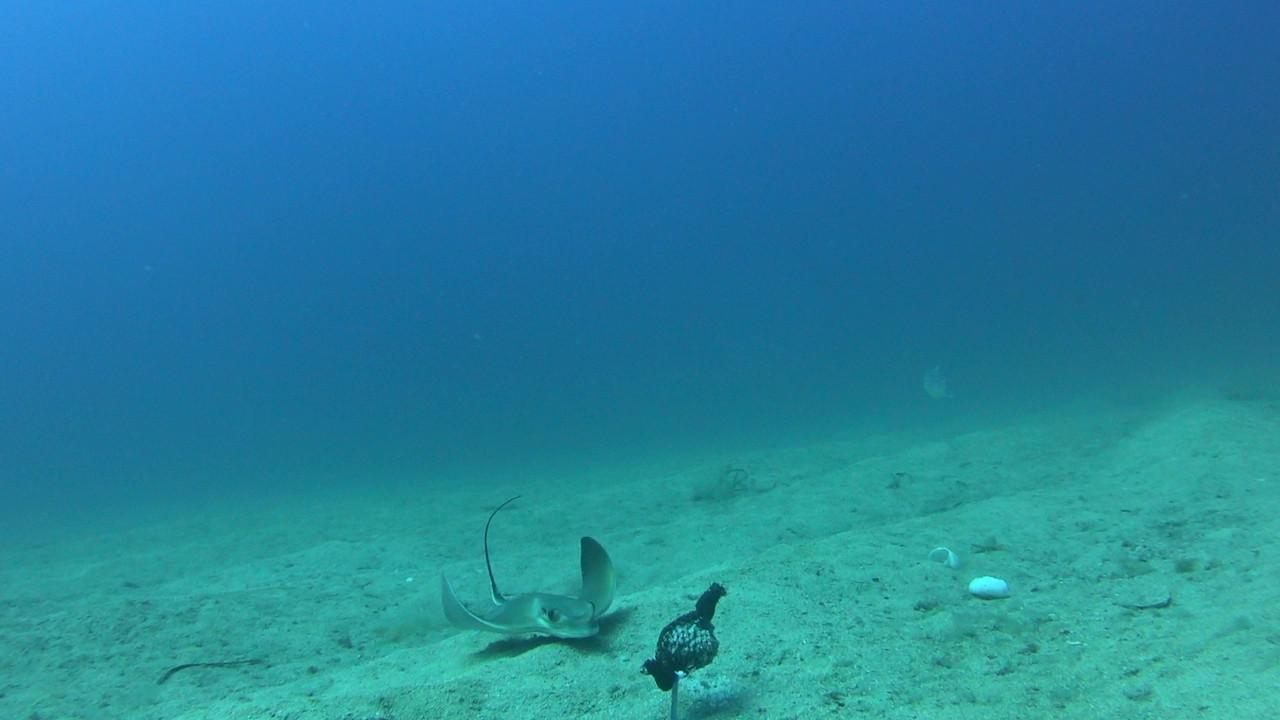myliobatis: (416, 478, 641, 656)
